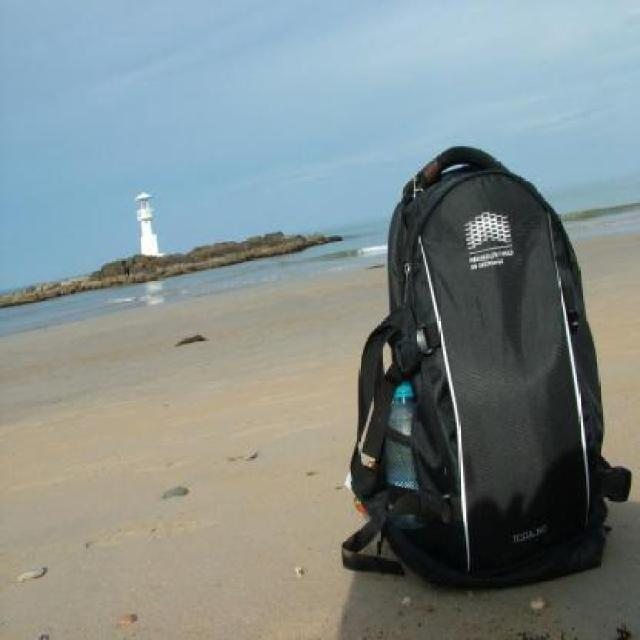backpack: (340, 138, 635, 592)
